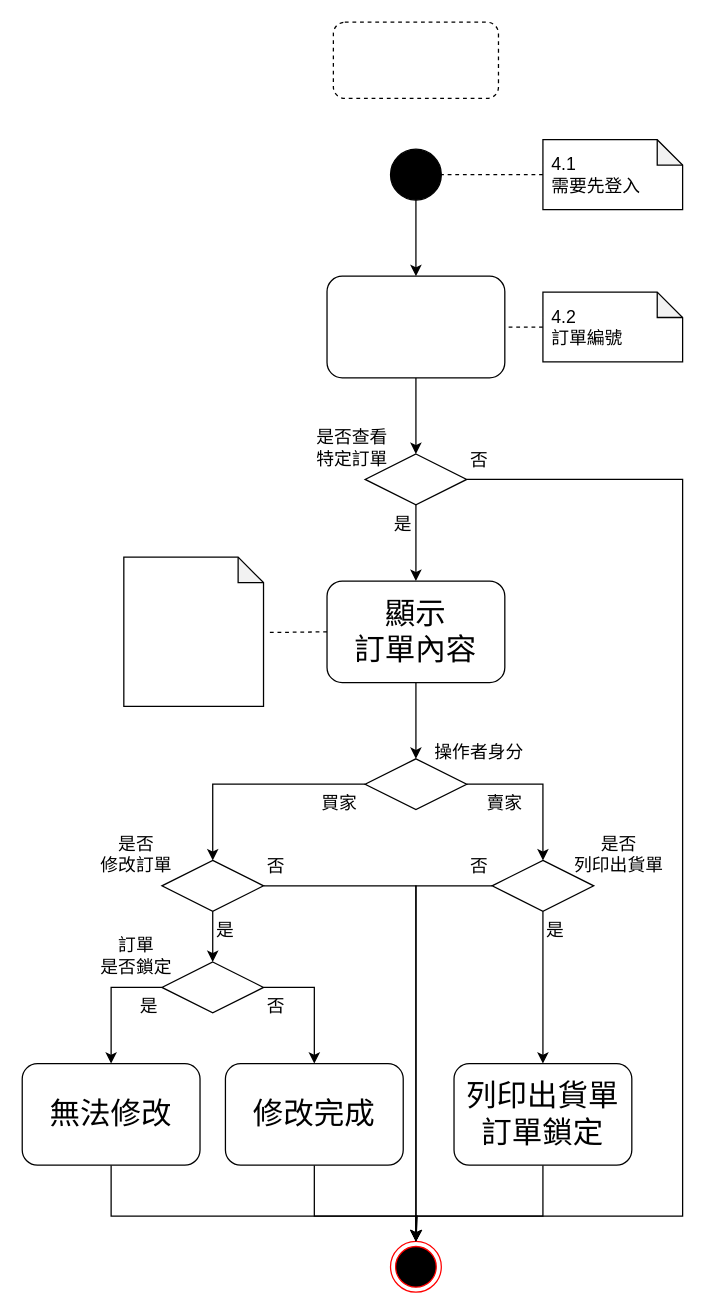
Image size: 715x1314. Some labels were removed from this diagram. Each missing label, with the centre of its shape:
"4.3 訂單編號 商品名稱 商品售價 數量 總金額" belongs at (193,631).
"查看訂單" belongs at (415,59).
"顯示 所有訂單" belongs at (415,326).
